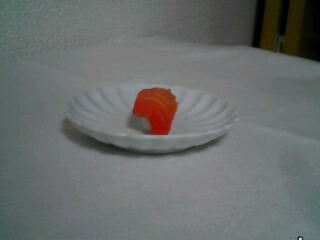002_classes: (129, 84, 183, 137)
